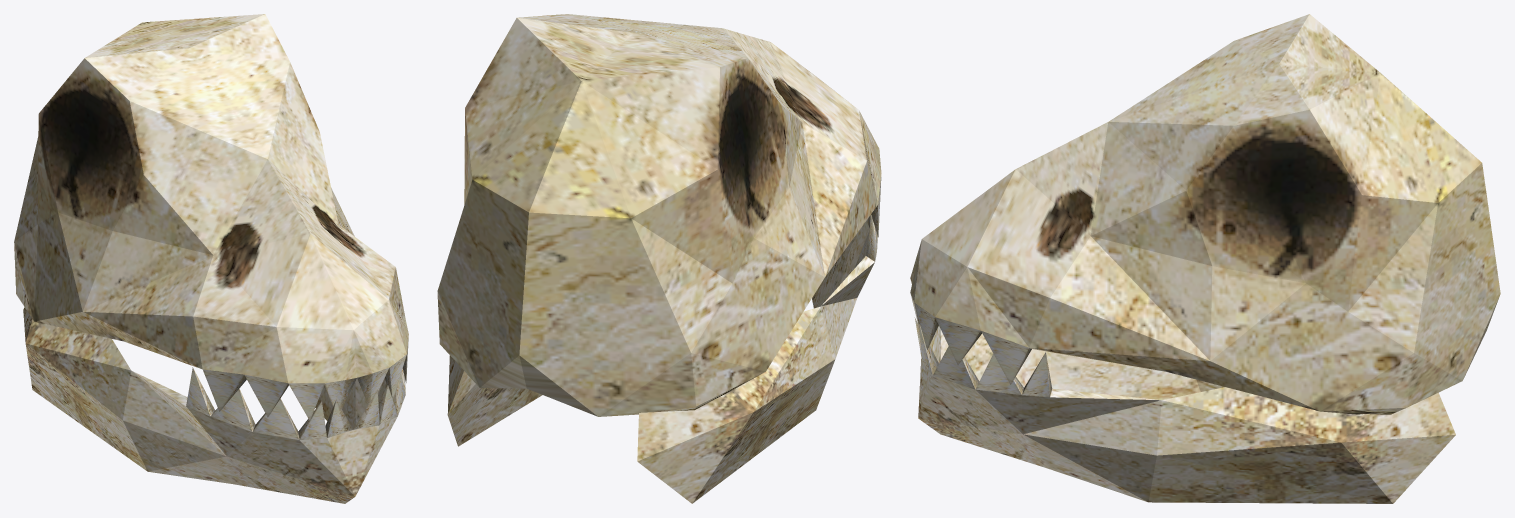
File: poi_tato_skel_grtr_krayt_head_s01_l2.fbx
The picture shows the model from 3 angles, left to right: view 1: azimuth 30°, elevation 25°; view 2: azimuth 150°, elevation 25°; view 3: azimuth 270°, elevation 25°; orthographic projection. The views are drawn at different scales.
Parts seen in each view (by area): view 1: mesh_node; view 2: mesh_node; view 3: mesh_node.
Boxes of the visible parts, box(x1,y1,x2,y2) form: mesh_node: box(14, 14, 408, 503); mesh_node: box(437, 14, 881, 503); mesh_node: box(910, 14, 1500, 503).
Bounding box in the file's own units: 1.27 × 1.57 × 2.17.
